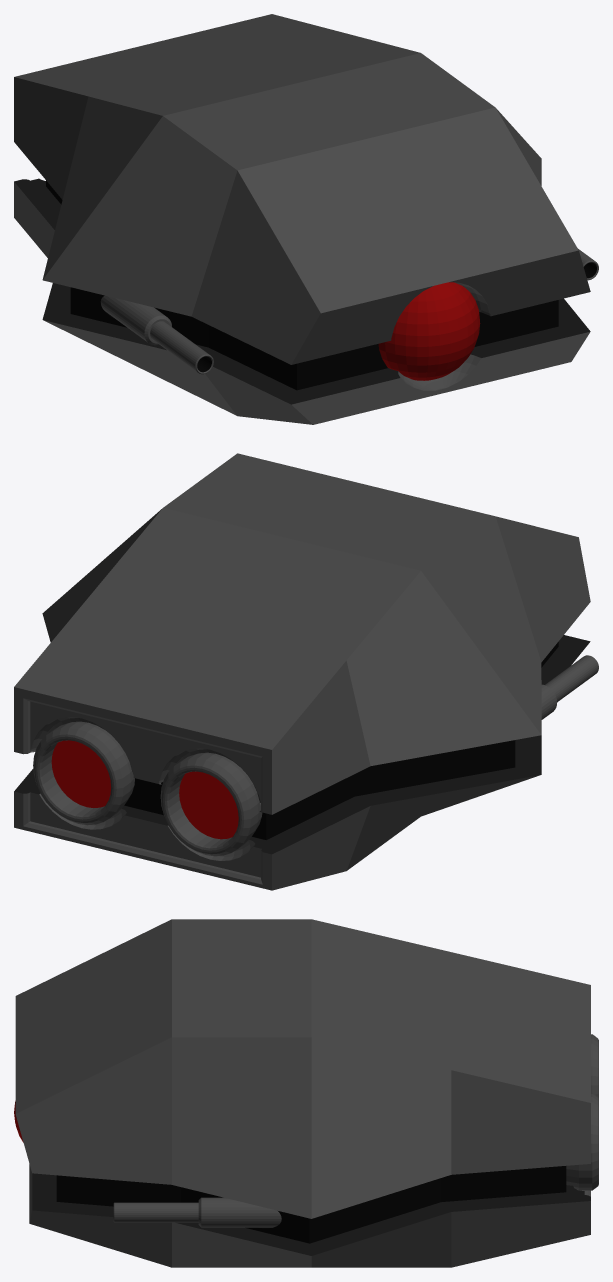
Rendered from Flying_Robot.fbx.
The picture shows the model from 3 angles, top to bottom: view 1: azimuth 30°, elevation 25°; view 2: azimuth 150°, elevation 25°; view 3: azimuth 270°, elevation 25°; orthographic projection. The views are drawn at different scales.
Visible parts, largest first — view 1: Cube.018; view 2: Cube.018; view 3: Cube.018.
Boxes of the visible parts, x1,y1,x2,y2 form: Cube.018: (14,14,598,424); Cube.018: (14,453,598,890); Cube.018: (14,919,598,1267).
Size of the model in its own units: 90.08 by 42.4 by 97.54.
